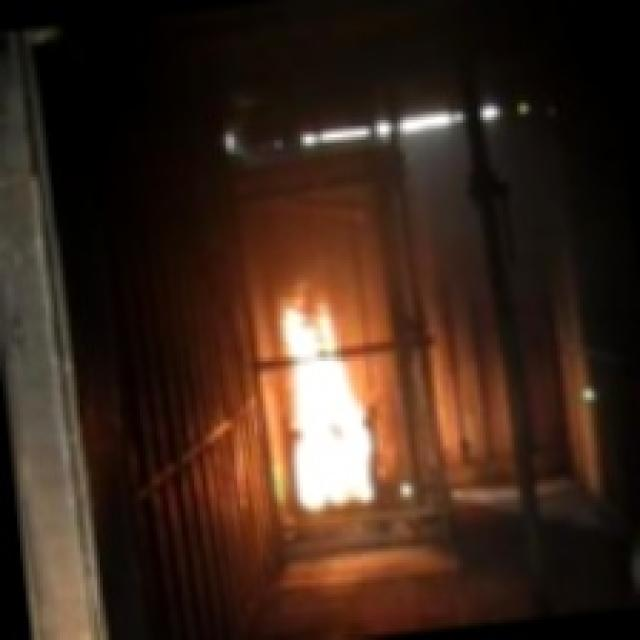fire: (256, 284, 384, 502)
